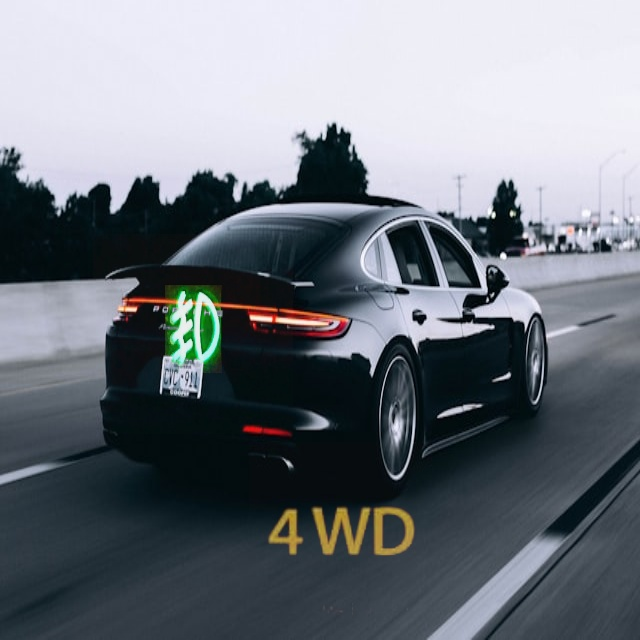symbol: (93, 234, 293, 434), (249, 442, 432, 625)
